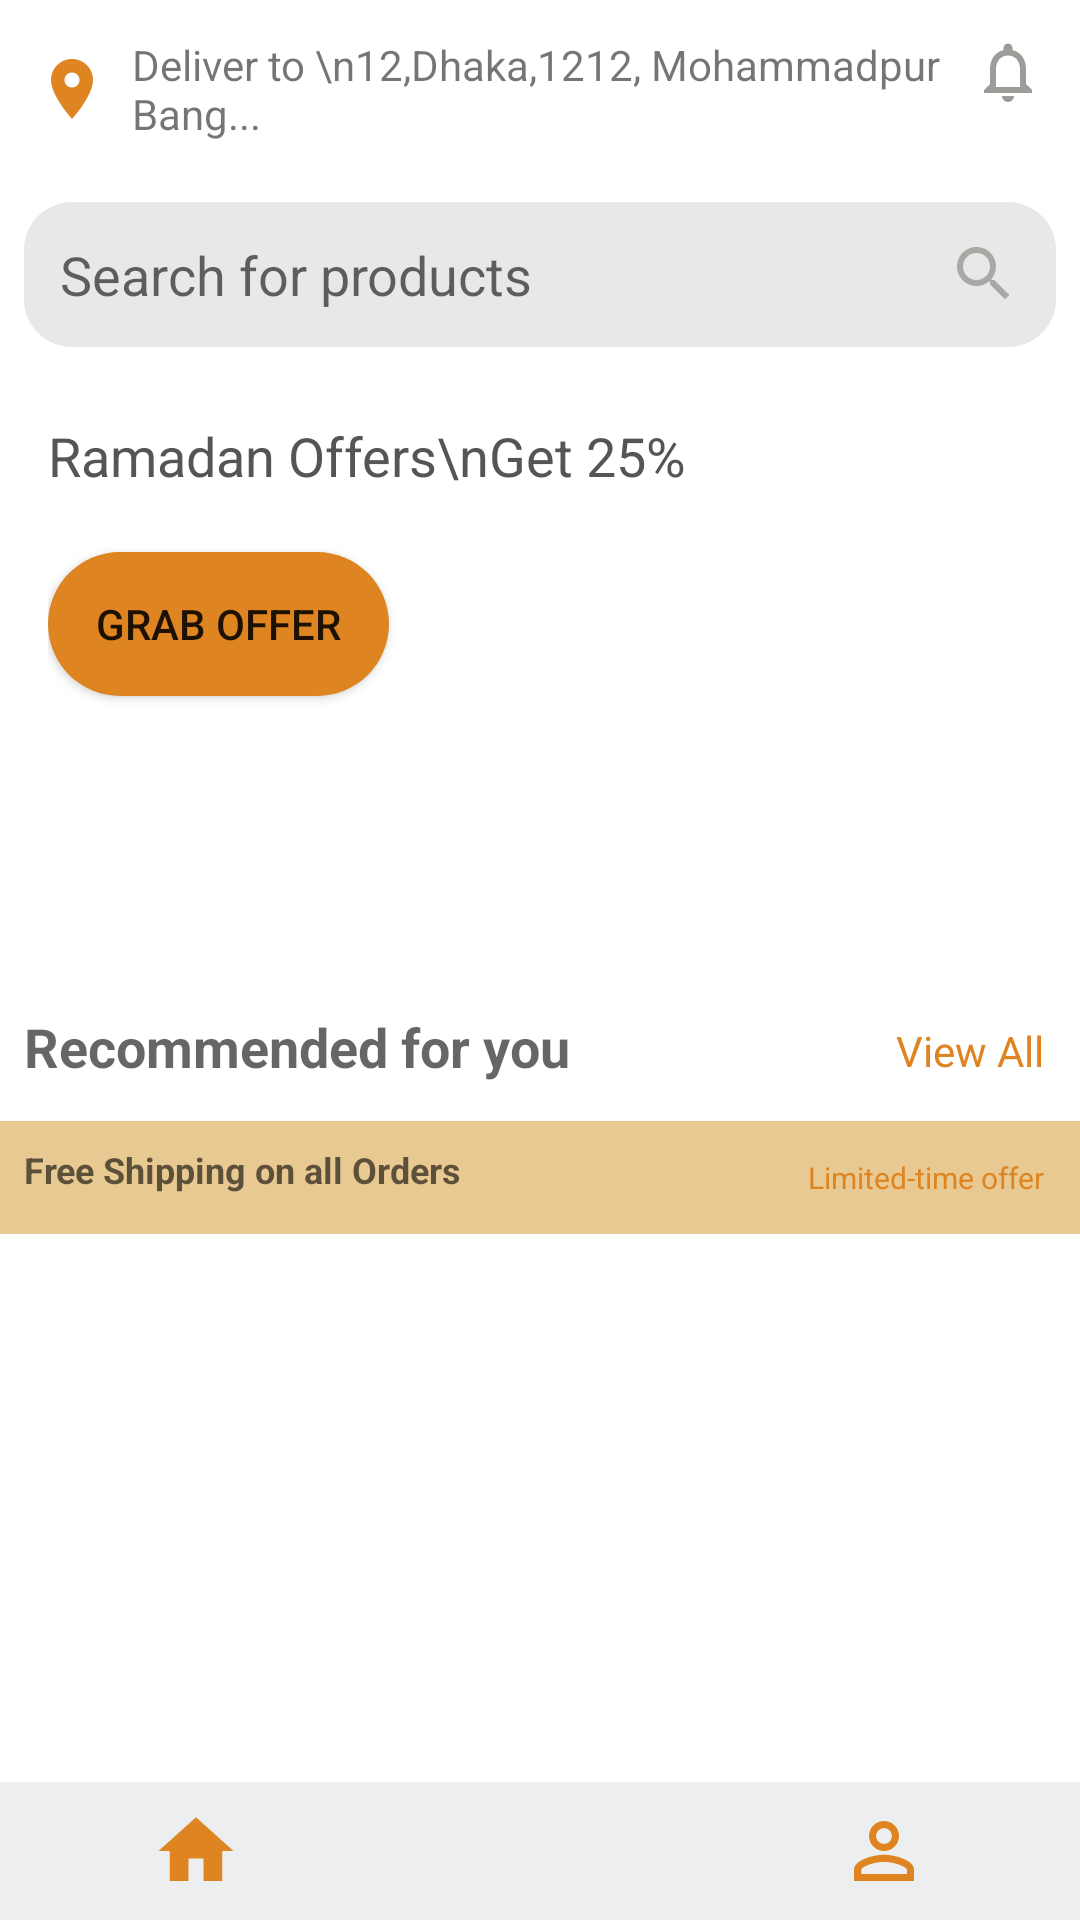

Screen size 1080x1920. Icon name, then its center in pixels as [x,y]:
home: [196,1849]
notifications none: [1008,72]
person: [884,1851]
